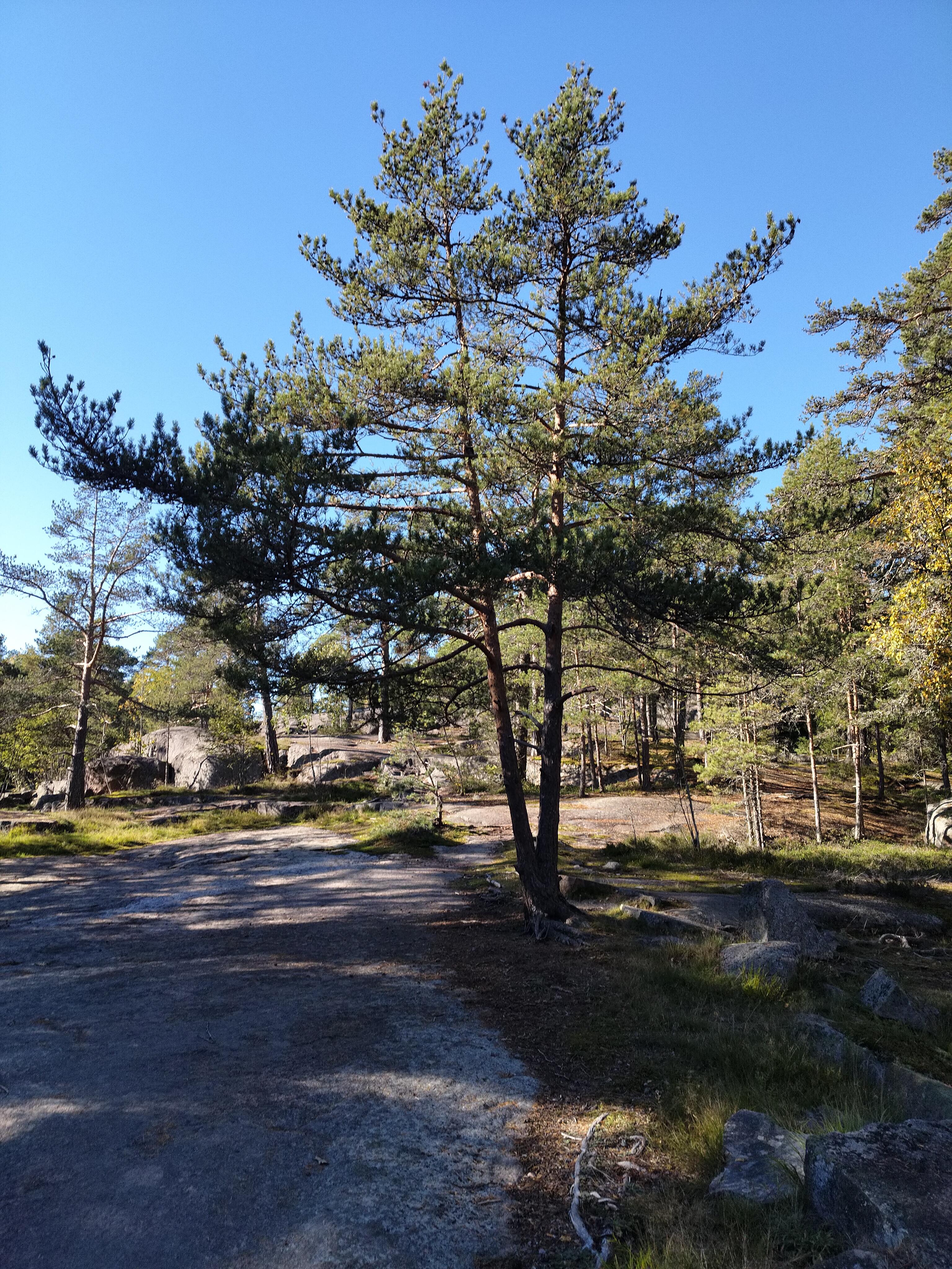Pine: (311, 50, 813, 934)
